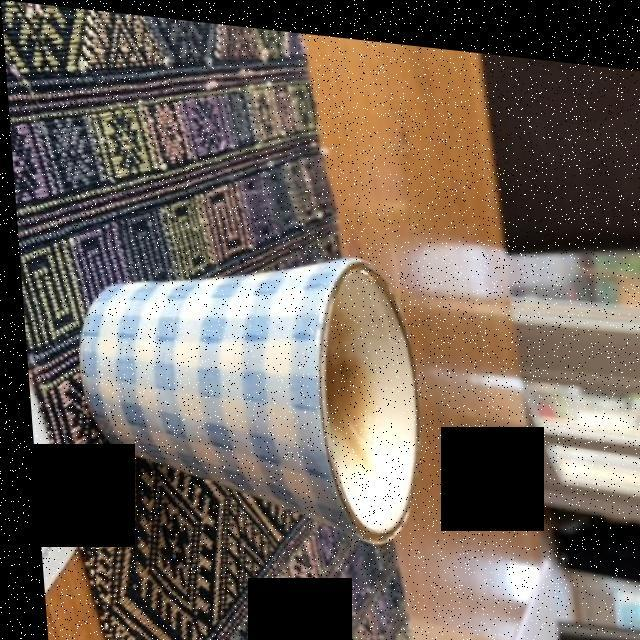espresso: (316, 286, 379, 478)
